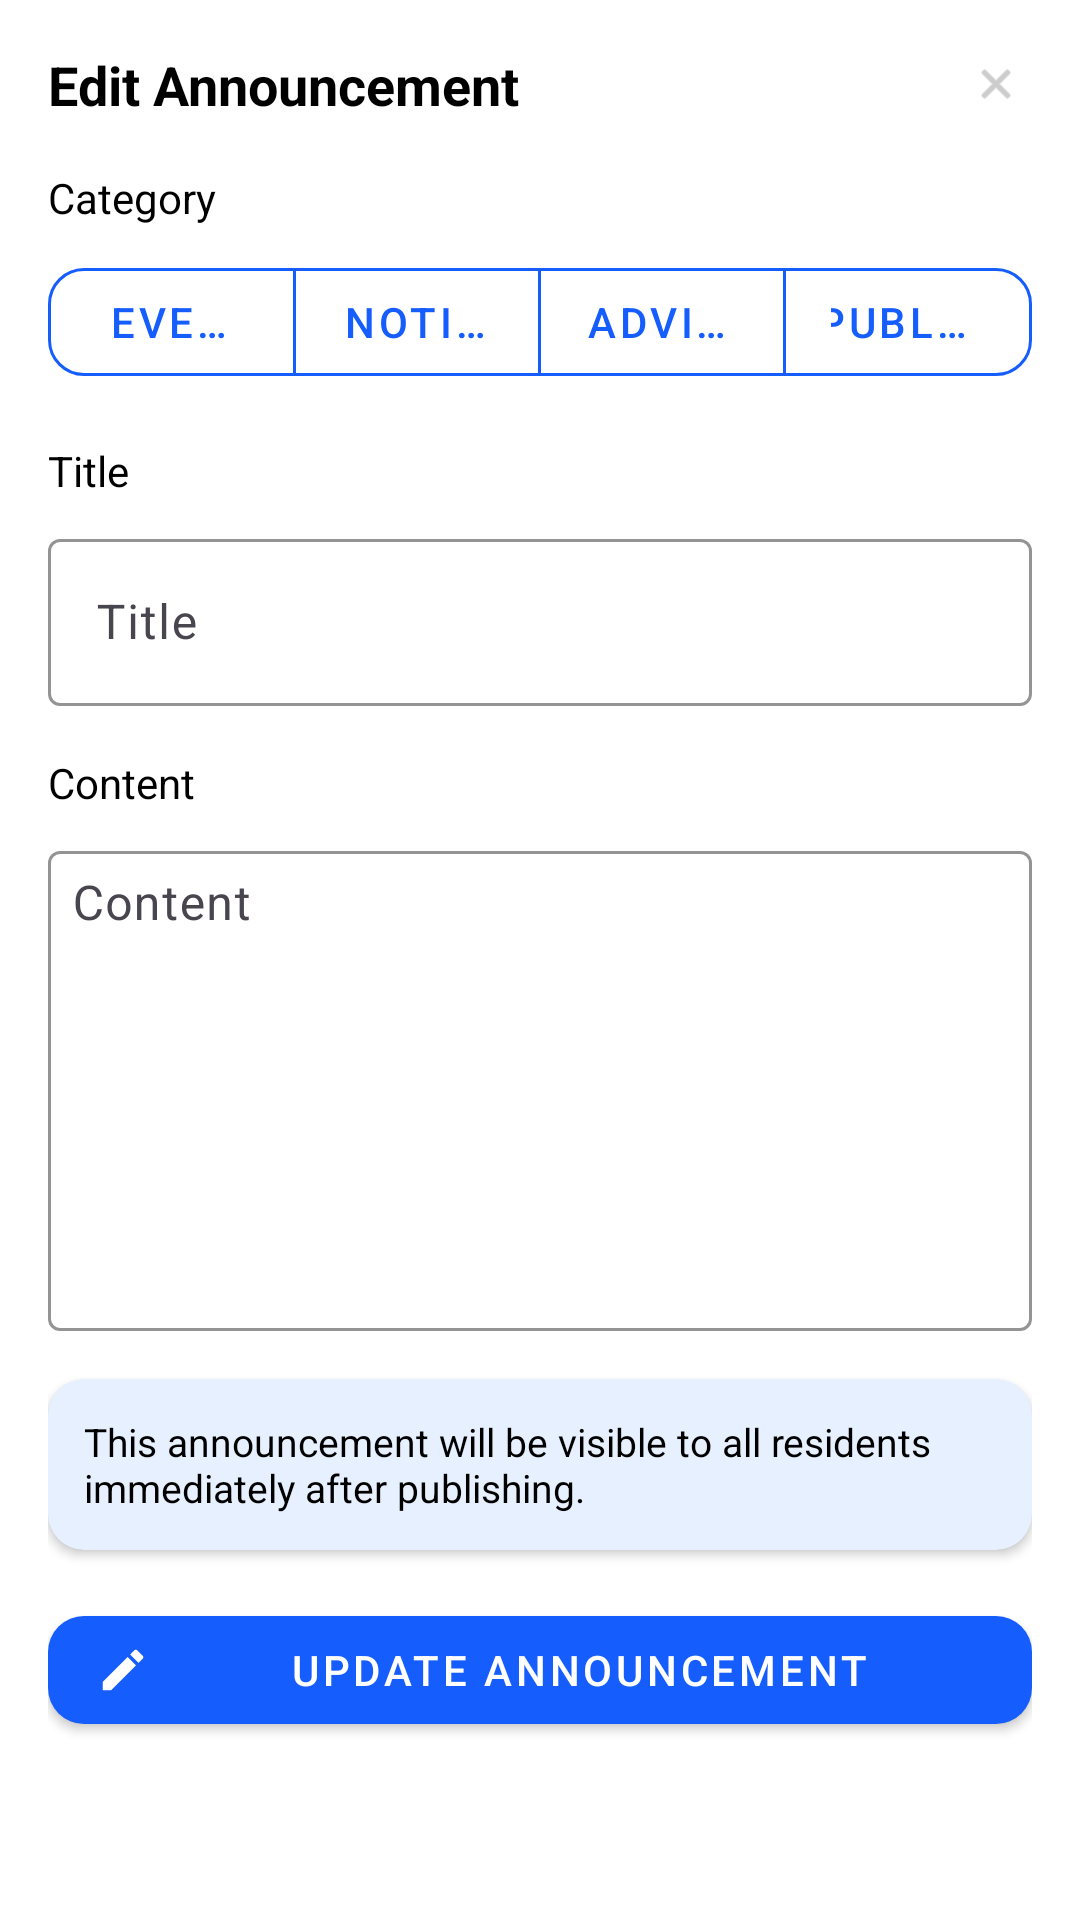

Icon click points for this 1080 × 1920 phone screenshot, format [x,y]:
close clear cancel: [996,84]
